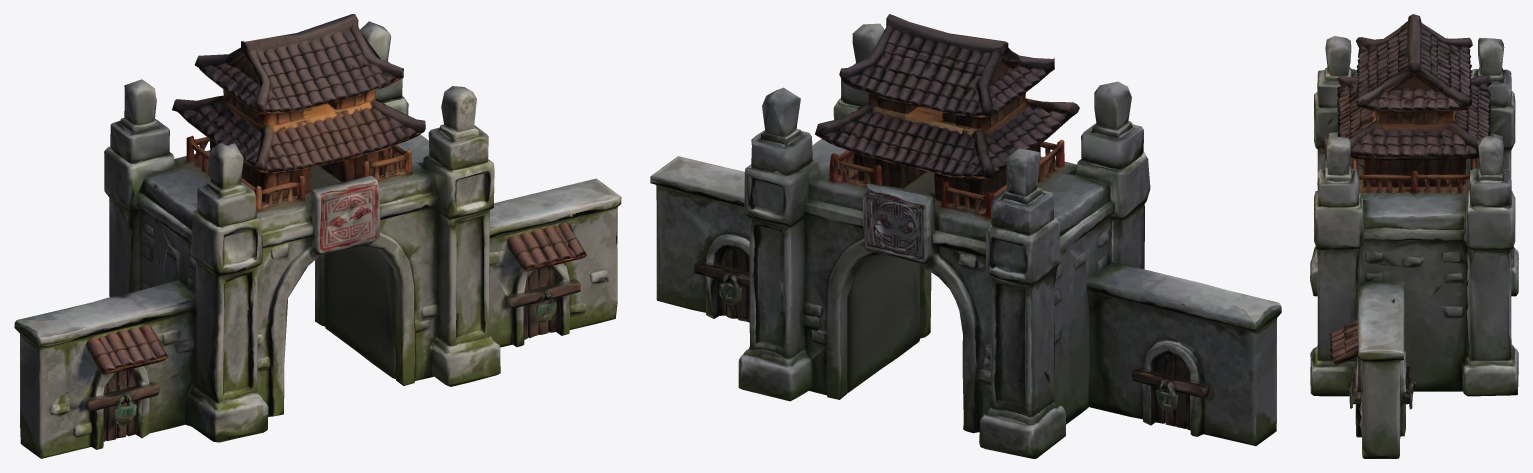
The model's file is cong-lang-khac-dau-vua.b52a2852.glb.
3 views of the same model, side by side, from view 1: azimuth 30°, elevation 25°; view 2: azimuth 150°, elevation 25°; view 3: azimuth 270°, elevation 25° (orthographic). The views are drawn at different scales.
Visible parts, largest first — view 1: tripo_node_4275f2ba-d3f9-4a52-b65b-04fd95d95cd3; view 2: tripo_node_4275f2ba-d3f9-4a52-b65b-04fd95d95cd3; view 3: tripo_node_4275f2ba-d3f9-4a52-b65b-04fd95d95cd3.
Boxes of the visible parts, left/top/right/bottom form: tripo_node_4275f2ba-d3f9-4a52-b65b-04fd95d95cd3: left=14, top=14, right=621, bottom=458; tripo_node_4275f2ba-d3f9-4a52-b65b-04fd95d95cd3: left=650, top=14, right=1281, bottom=458; tripo_node_4275f2ba-d3f9-4a52-b65b-04fd95d95cd3: left=1310, top=14, right=1518, bottom=458.
Size of the model in its own units: 0.9785 by 0.5476 by 0.3454.
Materials: 1 (1 with a texture image).
